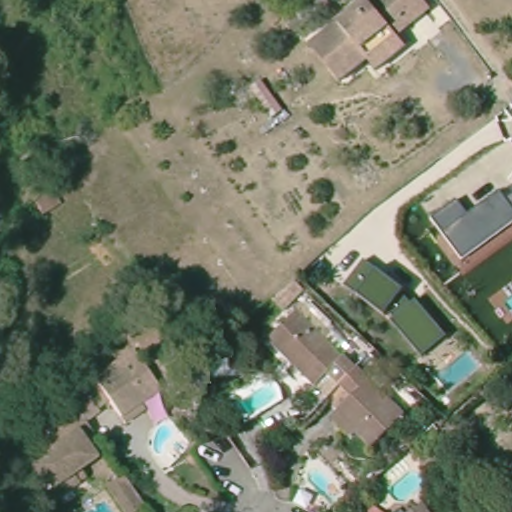pool: (227, 376, 285, 426), (431, 349, 483, 392), (299, 457, 347, 503), (146, 418, 187, 463), (383, 462, 426, 502), (84, 491, 116, 510), (501, 287, 512, 317)
